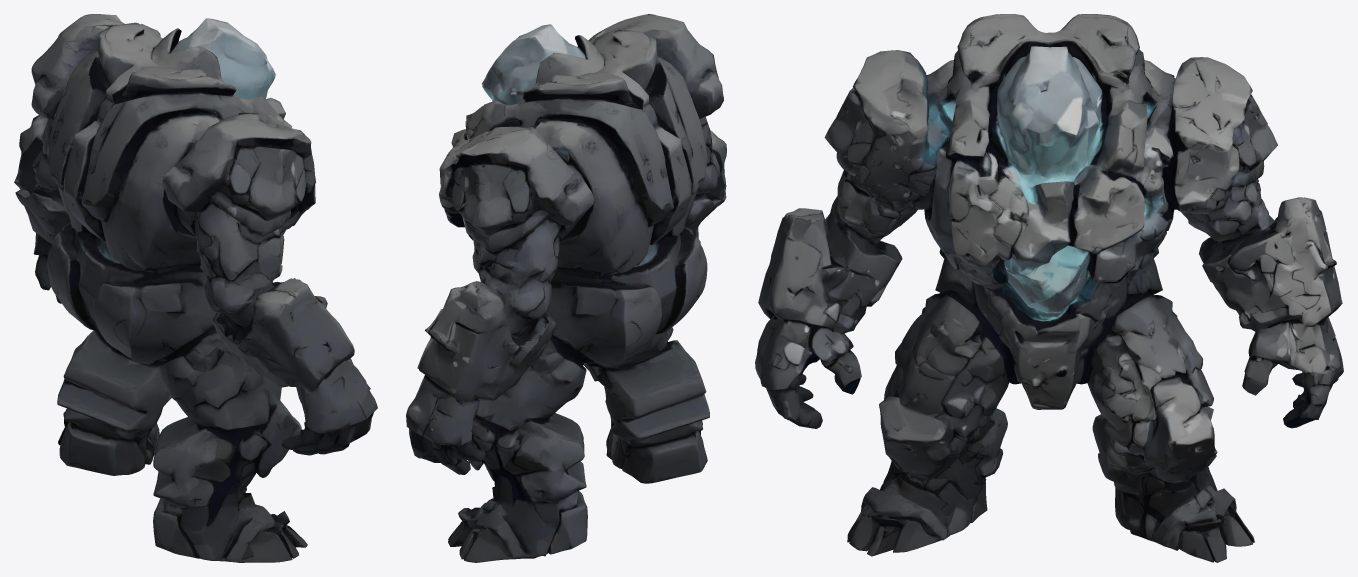
File: grimspike.glb
3 renders of one model, left to right at view 1: azimuth 30°, elevation 25°; view 2: azimuth 150°, elevation 25°; view 3: azimuth 270°, elevation 25°, orthographic. The views are drawn at different scales.
Parts seen in each view (by area): view 1: tripo_node_ed6295fa-07f5-49b6-bd5b-f2bee33b12cf; view 2: tripo_node_ed6295fa-07f5-49b6-bd5b-f2bee33b12cf; view 3: tripo_node_ed6295fa-07f5-49b6-bd5b-f2bee33b12cf.
Boxes of the visible parts, x1,y1,x2,y2 form: tripo_node_ed6295fa-07f5-49b6-bd5b-f2bee33b12cf: (14,14,377,562); tripo_node_ed6295fa-07f5-49b6-bd5b-f2bee33b12cf: (406,14,726,562); tripo_node_ed6295fa-07f5-49b6-bd5b-f2bee33b12cf: (755,14,1343,562).
Bounding box in the file's own units: 0.475 × 0.9495 × 1.
1 material, 1 textured.
